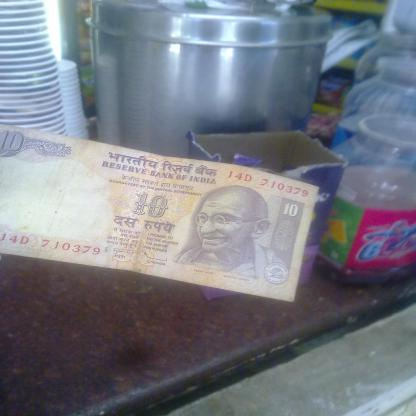Old10Front: (0, 124, 322, 305)
